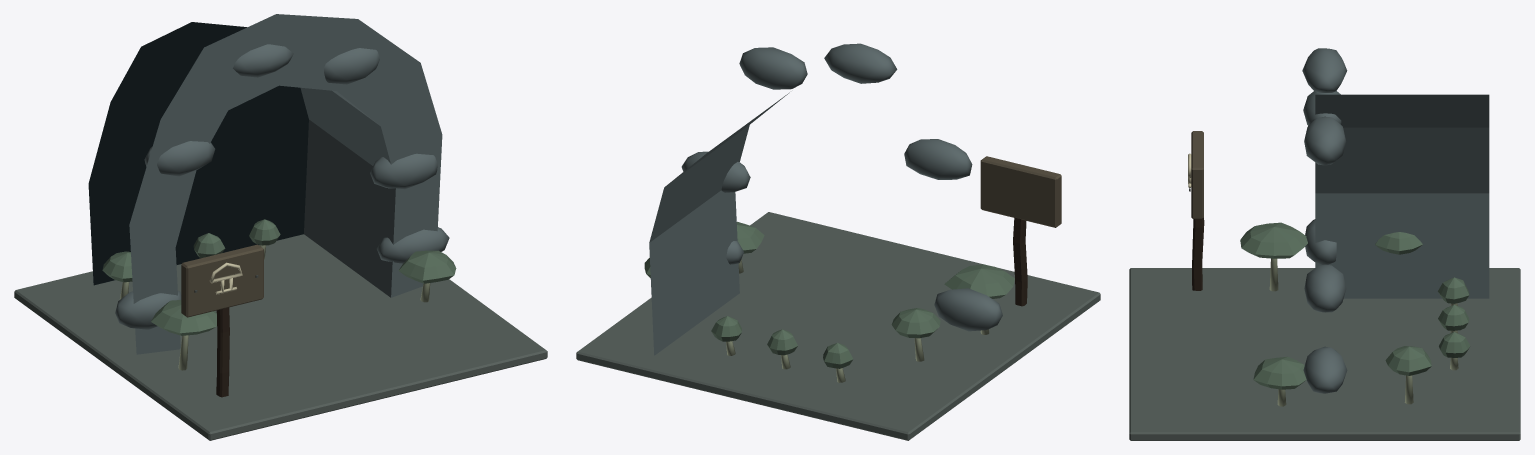
Rendered from hollows-onward.glb.
3 views of the same model, side by side, from view 1: azimuth 30°, elevation 25°; view 2: azimuth 150°, elevation 25°; view 3: azimuth 270°, elevation 25° (orthographic).
Visible parts, largest first — view 1: Surface, Ground; view 2: Ground, Surface; view 3: Ground, Surface.
Part boxes in pixels (x1,y1,x2,y2): Surface: [88, 14, 456, 397]; Ground: [14, 234, 547, 440]; Ground: [576, 212, 1100, 440]; Surface: [644, 43, 1061, 382]; Ground: [1129, 268, 1520, 440]; Surface: [1188, 48, 1489, 406].
Bounding box in the file's own units: 2 × 1.81 × 2.
